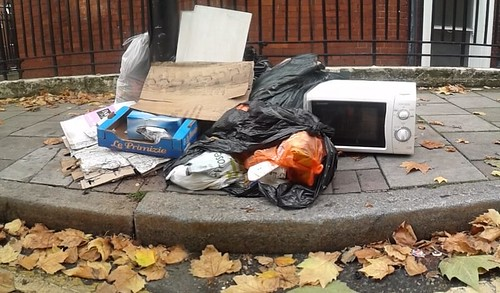trash: (44, 11, 424, 202)
